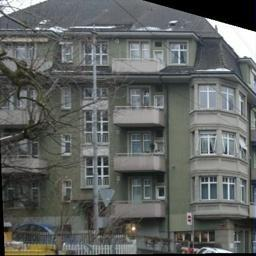building: (56, 0, 256, 241)
